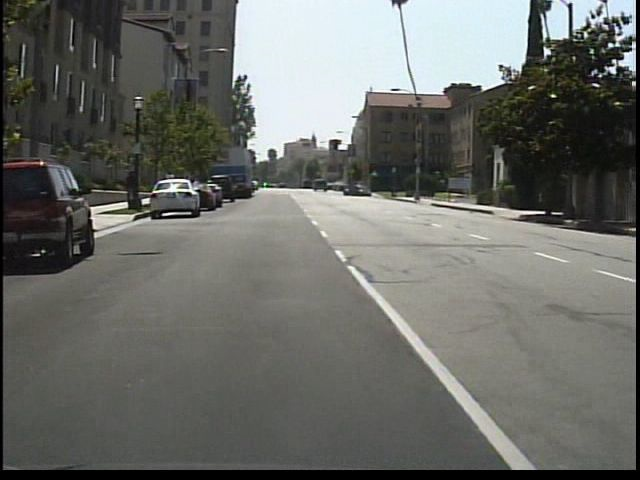person: (122, 167, 134, 202)
